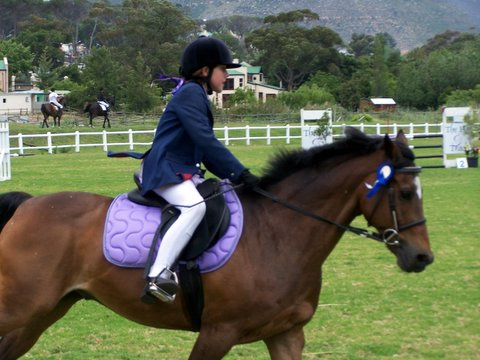person: (142, 37, 254, 296)
